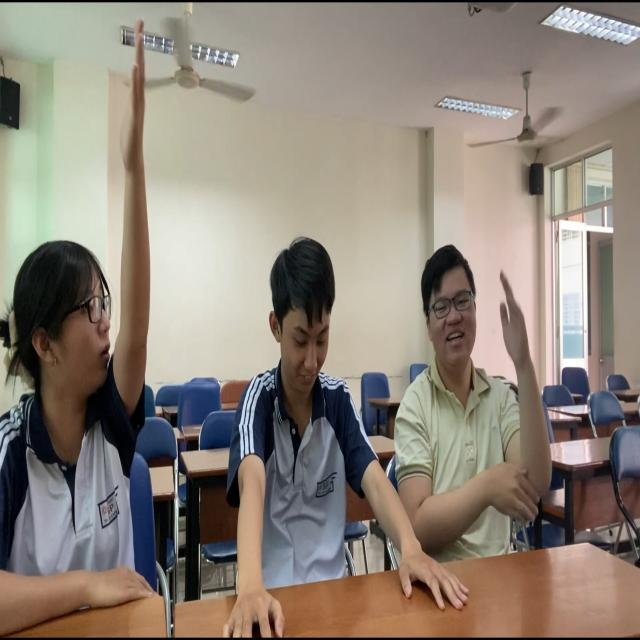raise_hand: (1, 13, 165, 640), (396, 235, 557, 569)
